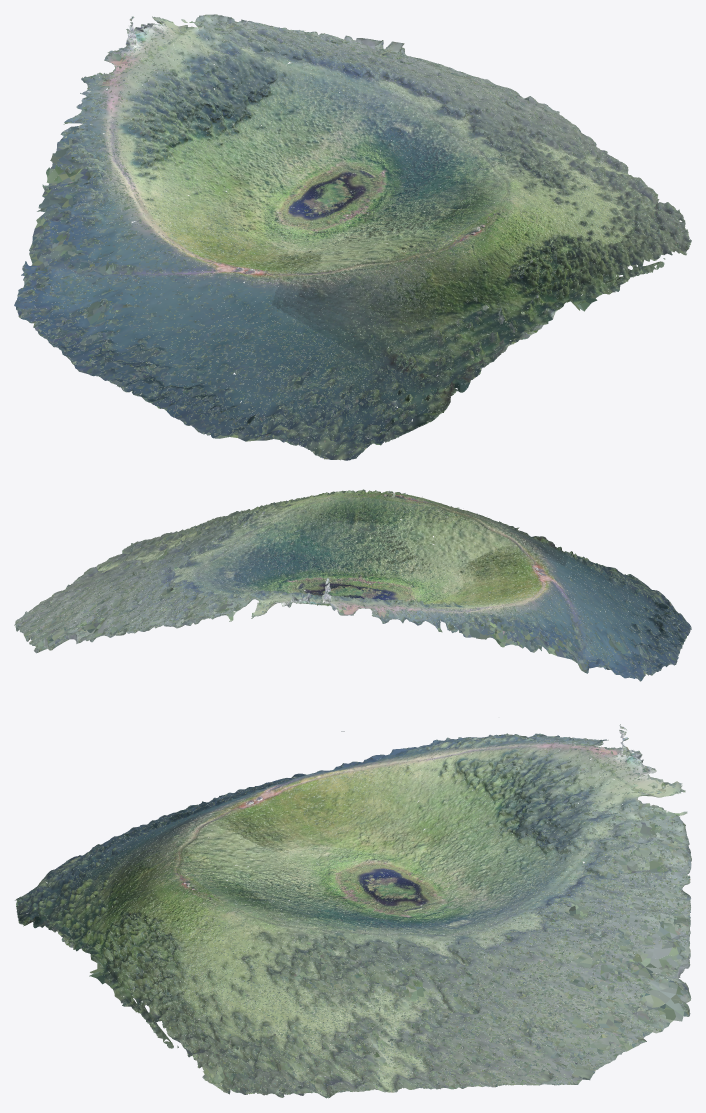
Rendered from geumoreum.glb.
The picture shows the model from 3 angles, top to bottom: view 1: azimuth 30°, elevation 25°; view 2: azimuth 150°, elevation 25°; view 3: azimuth 270°, elevation 25°; orthographic projection. The views are drawn at different scales.
Visible parts, largest first — view 1: Stereo textured mesh_Material0_0.001, Stereo textured mesh, Stereo textured mesh_Material0_0.006, Stereo textured mesh_Material0_0.004, Stereo textured mesh_Material0_0.002, Stereo textured mesh_Material0_0.007, Stereo textured mesh_Material0_0.005, Stereo textured mesh_Material0_0.003, Stereo textured mesh_Material0_0.008, Stereo textured mesh_Material0_0.010, Stereo textured mesh_Material0_0.009, Stereo textured mesh_Material0_0.011 (+5 smaller); view 2: Stereo textured mesh, Stereo textured mesh_Material0_0.004, Stereo textured mesh_Material0_0.001, Stereo textured mesh_Material0_0.002, Stereo textured mesh_Material0_0.009, Stereo textured mesh_Material0_0.006, Stereo textured mesh_Material0_0.008, Stereo textured mesh_Material0_0.005, Stereo textured mesh_Material0_0.003, Stereo textured mesh_Material0_0.012, Stereo textured mesh_Material0_0.007, Stereo textured mesh_Material0_0.010 (+5 smaller); view 3: Stereo textured mesh_Material0_0.006, Stereo textured mesh, Stereo textured mesh_Material0_0.009, Stereo textured mesh_Material0_0.012, Stereo textured mesh_Material0_0.008, Stereo textured mesh_Material0_0.010, Stereo textured mesh_Material0_0.011, Stereo textured mesh_Material0_0.002, Stereo textured mesh_Material0_0.001, Stereo textured mesh_Material0_0.005, Stereo textured mesh_Material0_0.007, Stereo textured mesh_Material0_0.003 (+5 smaller).
Part boxes in pixels (bbox=[...]): Stereo textured mesh_Material0_0.001: bbox=[63, 63, 572, 458]; Stereo textured mesh: bbox=[116, 27, 578, 358]; Stereo textured mesh_Material0_0.006: bbox=[19, 15, 681, 448]; Stereo textured mesh_Material0_0.004: bbox=[14, 17, 656, 361]; Stereo textured mesh_Material0_0.002: bbox=[70, 28, 678, 445]; Stereo textured mesh_Material0_0.007: bbox=[43, 23, 691, 445]; Stereo textured mesh_Material0_0.005: bbox=[28, 19, 659, 459]; Stereo textured mesh_Material0_0.003: bbox=[83, 18, 582, 352]; Stereo textured mesh_Material0_0.008: bbox=[43, 14, 686, 443]; Stereo textured mesh_Material0_0.010: bbox=[17, 15, 690, 458]; Stereo textured mesh_Material0_0.009: bbox=[25, 15, 680, 422]; Stereo textured mesh_Material0_0.011: bbox=[16, 15, 690, 460]; Stereo textured mesh: bbox=[247, 492, 568, 607]; Stereo textured mesh_Material0_0.004: bbox=[240, 491, 670, 679]; Stereo textured mesh_Material0_0.001: bbox=[201, 492, 688, 666]; Stereo textured mesh_Material0_0.002: bbox=[94, 490, 690, 665]; Stereo textured mesh_Material0_0.009: bbox=[15, 490, 681, 678]; Stereo textured mesh_Material0_0.006: bbox=[15, 489, 691, 681]; Stereo textured mesh_Material0_0.008: bbox=[36, 489, 690, 671]; Stereo textured mesh_Material0_0.005: bbox=[16, 490, 667, 661]; Stereo textured mesh_Material0_0.003: bbox=[228, 490, 569, 623]; Stereo textured mesh_Material0_0.012: bbox=[16, 491, 691, 675]; Stereo textured mesh_Material0_0.007: bbox=[83, 490, 686, 670]; Stereo textured mesh_Material0_0.010: bbox=[18, 490, 691, 680]; Stereo textured mesh_Material0_0.006: bbox=[16, 726, 690, 1096]; Stereo textured mesh: bbox=[101, 747, 640, 1047]; Stereo textured mesh_Material0_0.009: bbox=[28, 735, 690, 1092]; Stereo textured mesh_Material0_0.012: bbox=[16, 724, 691, 1097]; Stereo textured mesh_Material0_0.008: bbox=[25, 727, 691, 1094]; Stereo textured mesh_Material0_0.010: bbox=[15, 726, 690, 1097]; Stereo textured mesh_Material0_0.011: bbox=[16, 728, 691, 1098]; Stereo textured mesh_Material0_0.002: bbox=[31, 737, 641, 1093]; Stereo textured mesh_Material0_0.001: bbox=[17, 741, 607, 959]; Stereo textured mesh_Material0_0.005: bbox=[92, 733, 688, 1086]; Stereo textured mesh_Material0_0.007: bbox=[16, 734, 690, 1096]; Stereo textured mesh_Material0_0.003: bbox=[104, 726, 643, 971].
Size of the model in its own units: 687 by 220 by 629.
1 material, 1 textured.
